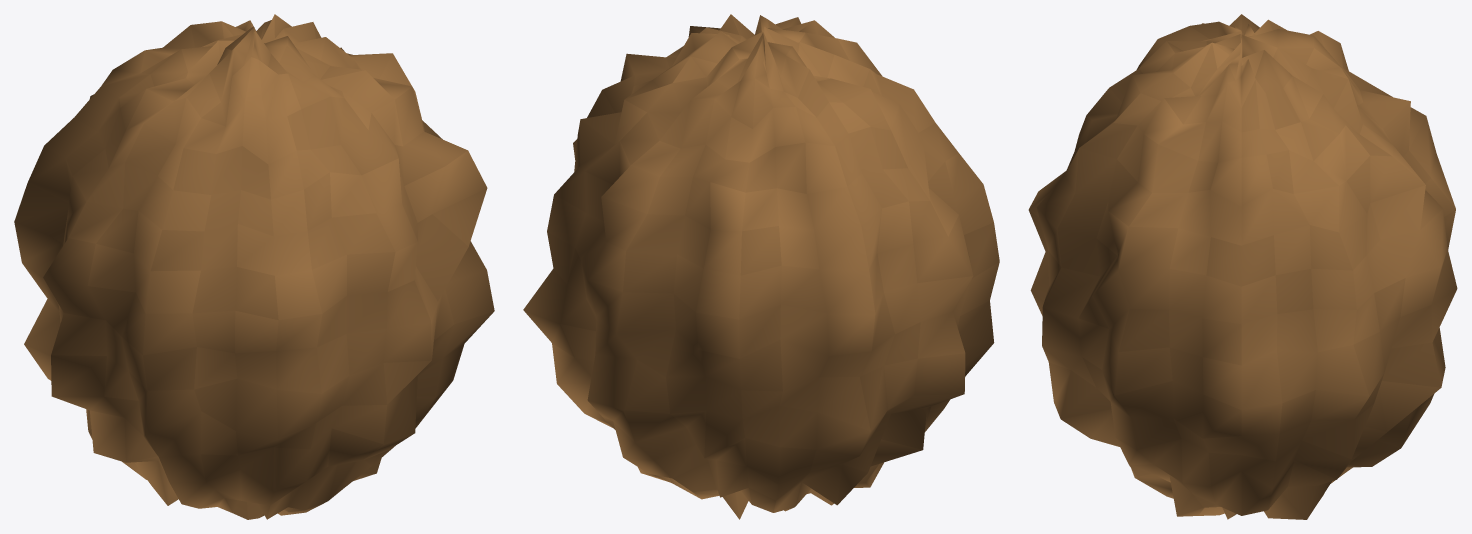
Rendered from Walnut.glb.
The picture shows the model from 3 angles, left to right: view 1: azimuth 30°, elevation 25°; view 2: azimuth 150°, elevation 25°; view 3: azimuth 270°, elevation 25°; orthographic projection.
Parts seen in each view (by area): view 1: Walnut; view 2: Walnut; view 3: Walnut.
Boxes of the visible parts, <box> form: Walnut: <box>14,14,494,519</box>; Walnut: <box>523,14,999,519</box>; Walnut: <box>1028,14,1457,519</box>.
Size of what is drawn, in the model's own units: 0.0357 by 0.039 by 0.0317.
